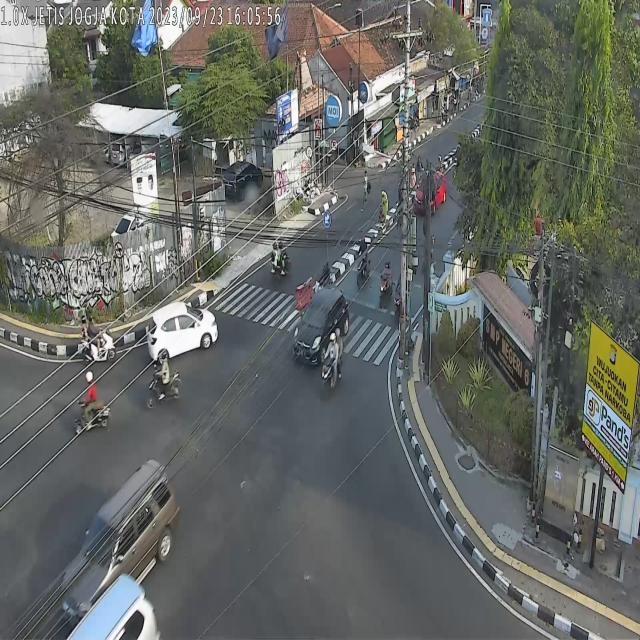car: (62, 458, 178, 624), (61, 572, 160, 640), (291, 285, 350, 366), (147, 300, 218, 364), (414, 170, 447, 211)
motorcycle: (72, 370, 110, 434), (147, 352, 180, 412), (79, 313, 117, 363), (319, 328, 344, 392), (270, 239, 292, 283), (355, 238, 371, 286), (379, 259, 393, 310), (394, 267, 401, 321)
